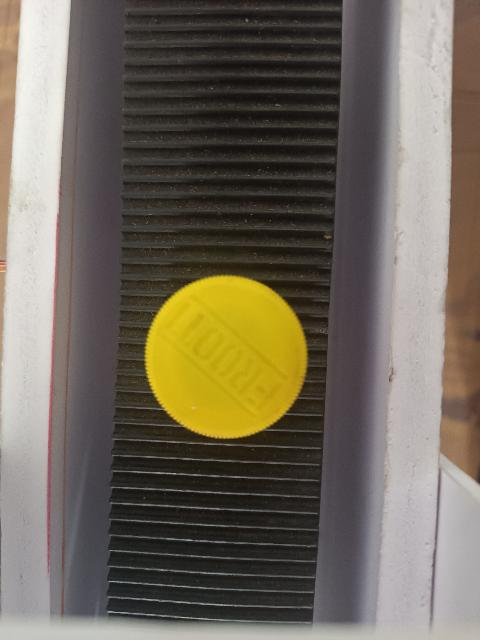bottlecap: (144, 270, 310, 440)
